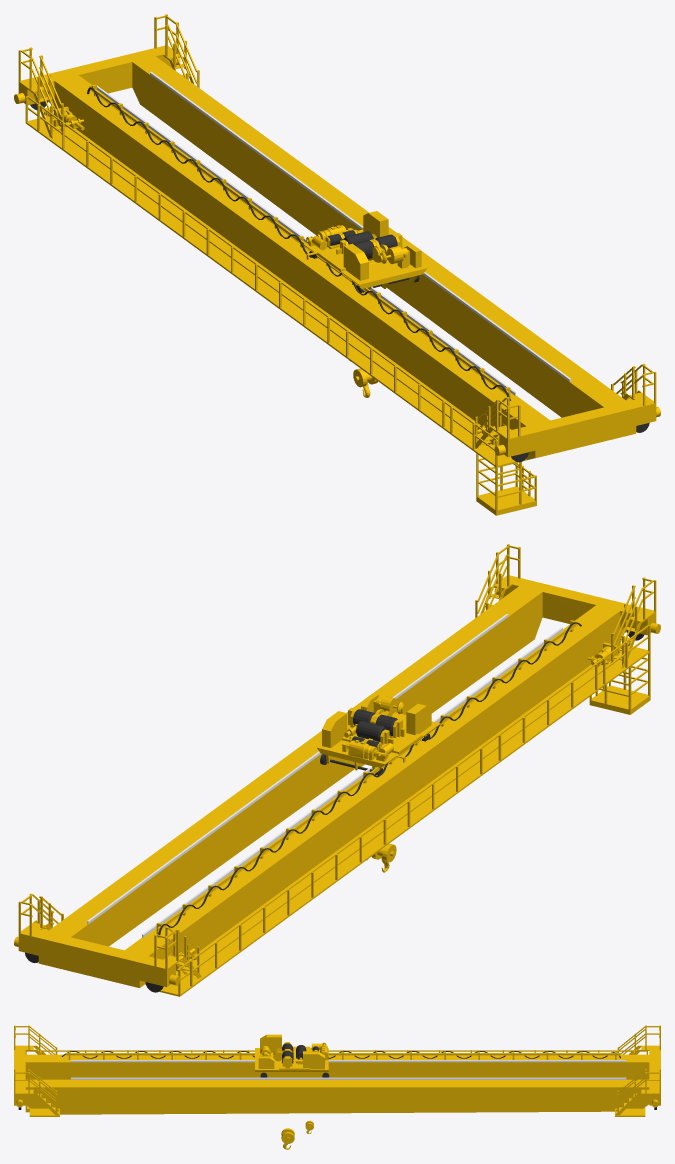
3 views of the same model, one above another, from view 1: azimuth 30°, elevation 25°; view 2: azimuth 150°, elevation 25°; view 3: azimuth 270°, elevation 25° (orthographic). The views are drawn at different scales.
Visible parts, largest first — view 1: 1_Bay_C_866_Body, 1_Bay_C_866_Head_01; view 2: 1_Bay_C_866_Body, 1_Bay_C_866_Head_01; view 3: 1_Bay_C_866_Body, 1_Bay_C_866_Head_01 (×2).
Boxes of the visible parts, x1,y1,x2,y2 form: 1_Bay_C_866_Body: (14,14,660,515); 1_Bay_C_866_Head_01: (303,211,426,292); 1_Bay_C_866_Body: (14,544,660,996); 1_Bay_C_866_Head_01: (317,693,440,775); 1_Bay_C_866_Body: (14,1025,660,1116); 1_Bay_C_866_Head_01 (×2): (255,1034,329,1149).
Bounding box in the file's own units: 7.46 × 7.11 × 39.13.
